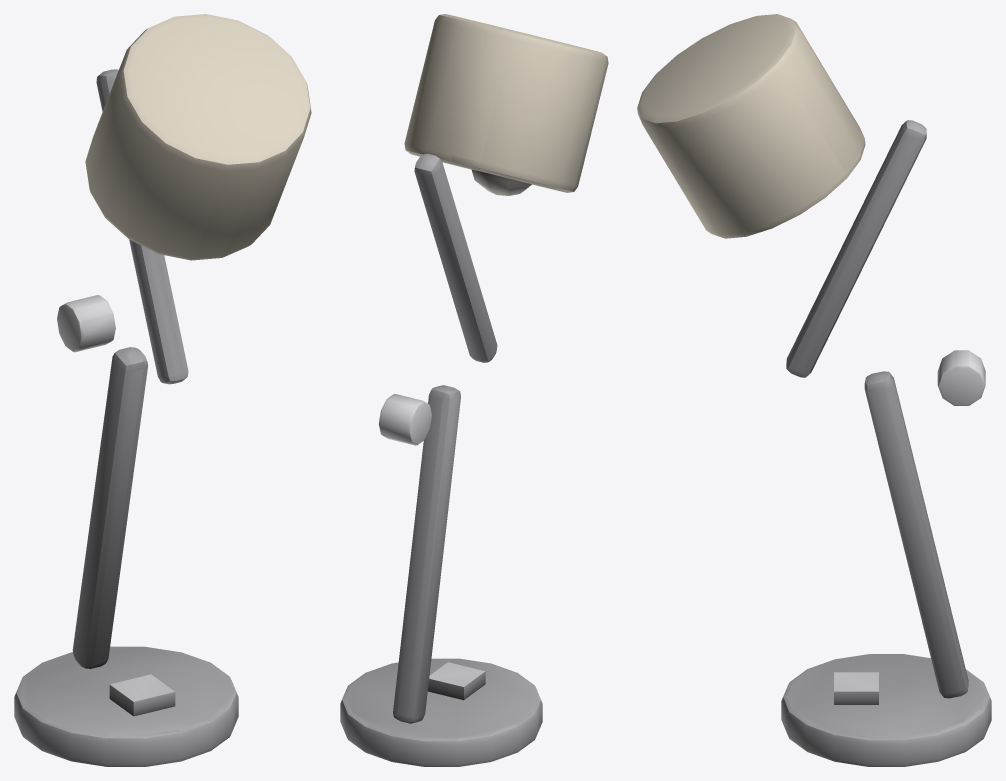
Rendered from desk_lamp.glb.
3 views of the same model, side by side, from view 1: azimuth 30°, elevation 25°; view 2: azimuth 150°, elevation 25°; view 3: azimuth 270°, elevation 25° (orthographic). The views are drawn at different scales.
Visible parts, largest first — view 1: desk_lamp; view 2: desk_lamp; view 3: desk_lamp.
Boxes of the visible parts, left/top/right/bottom form: desk_lamp: left=14, top=14, right=311, bottom=766; desk_lamp: left=340, top=14, right=608, bottom=766; desk_lamp: left=637, top=14, right=991, bottom=766.
Size of the model in its own units: 0.1379 by 0.5112 by 0.236.
